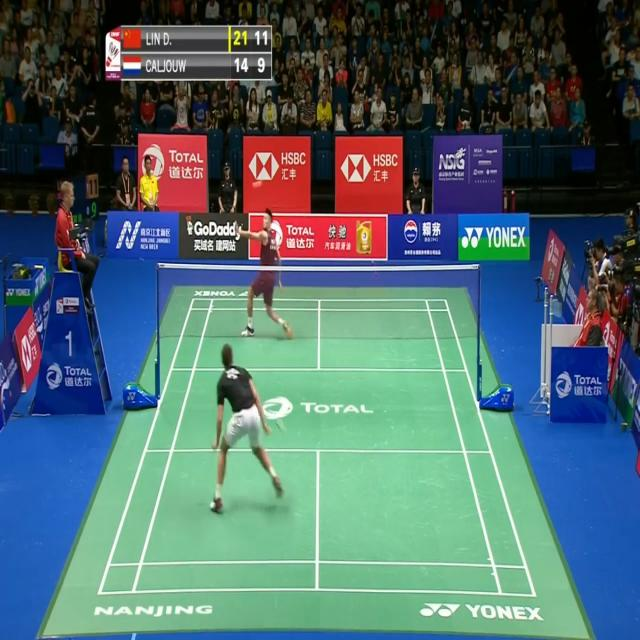Player1: (204, 336, 288, 522)
Player2: (231, 197, 298, 353)
